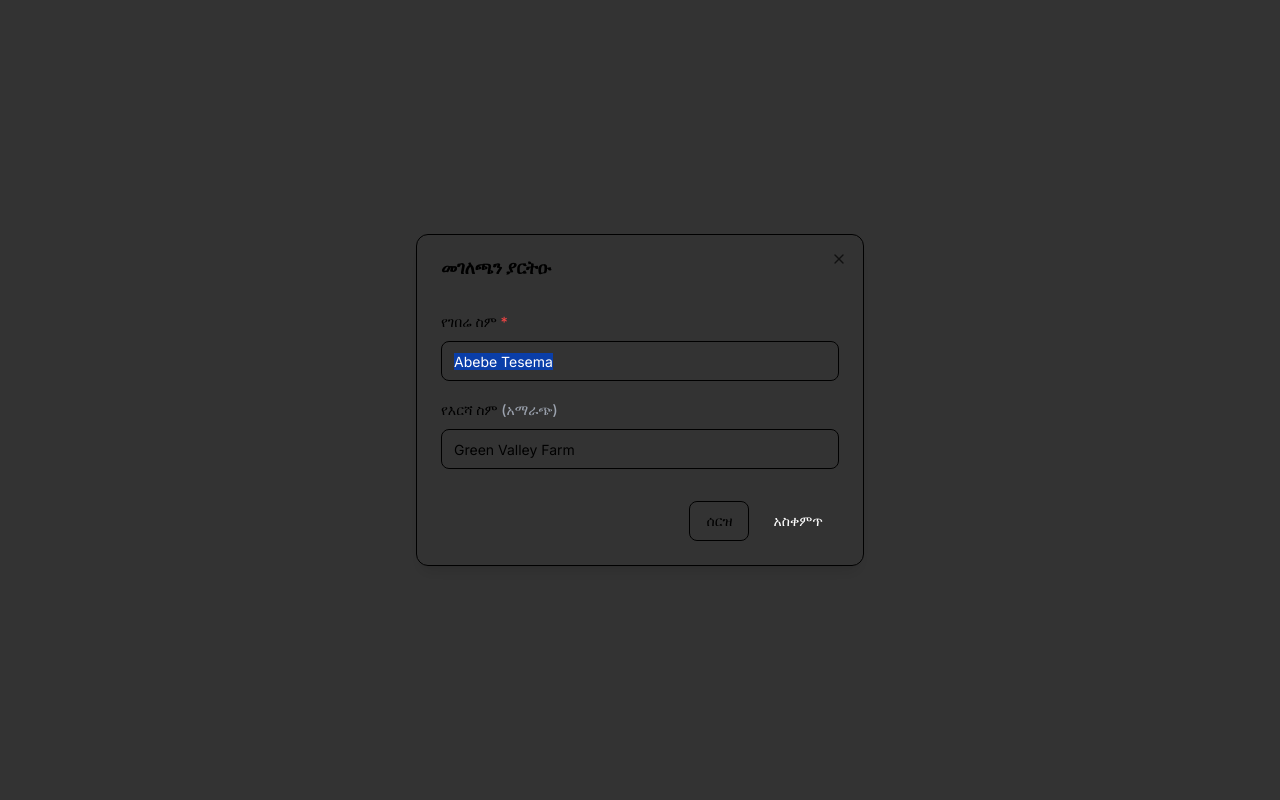
it: EditProfileModal › validates farmer name on save
# Clear farmer name to single word
Replace the text in the field with placeholder "ስም እና የአባት ስም" with "Abebe": [640, 361] box [441, 341, 839, 381]
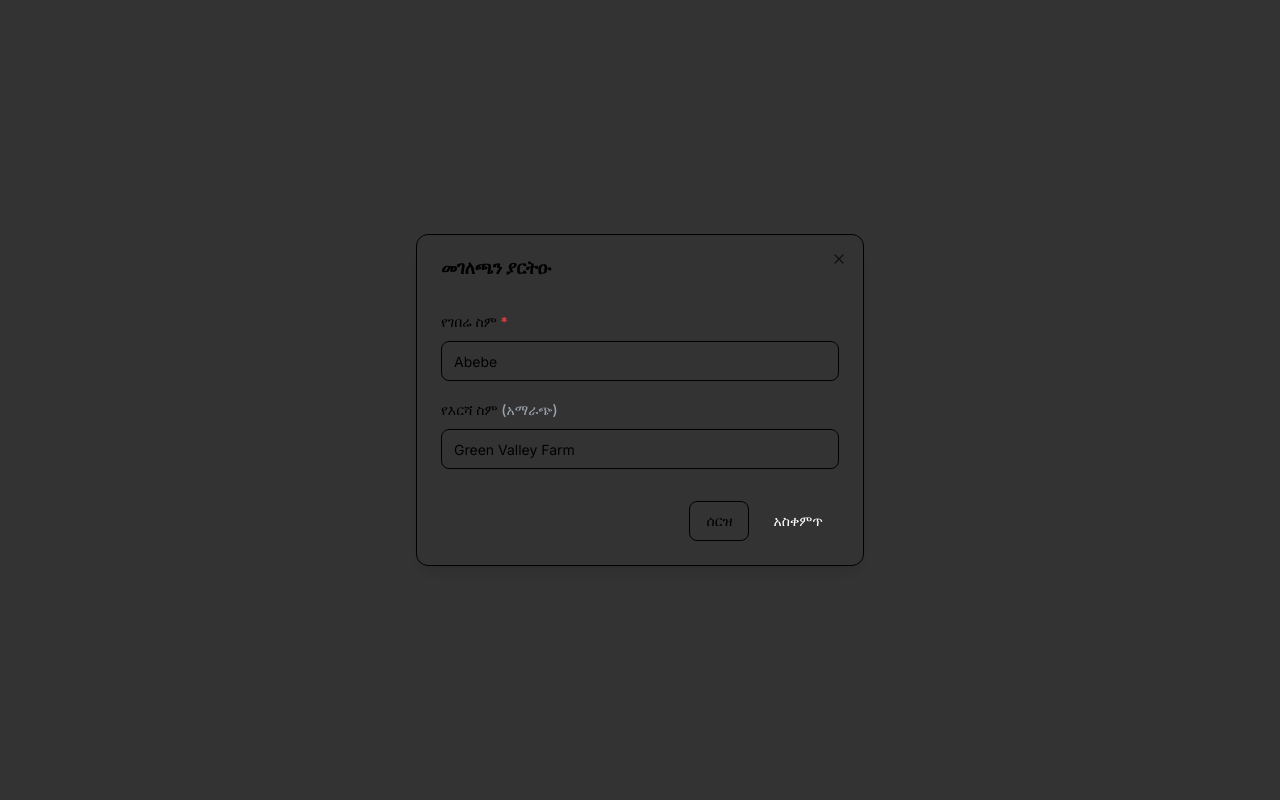
Click the button "አስቀምጥ": [798, 521] box [758, 501, 839, 541]
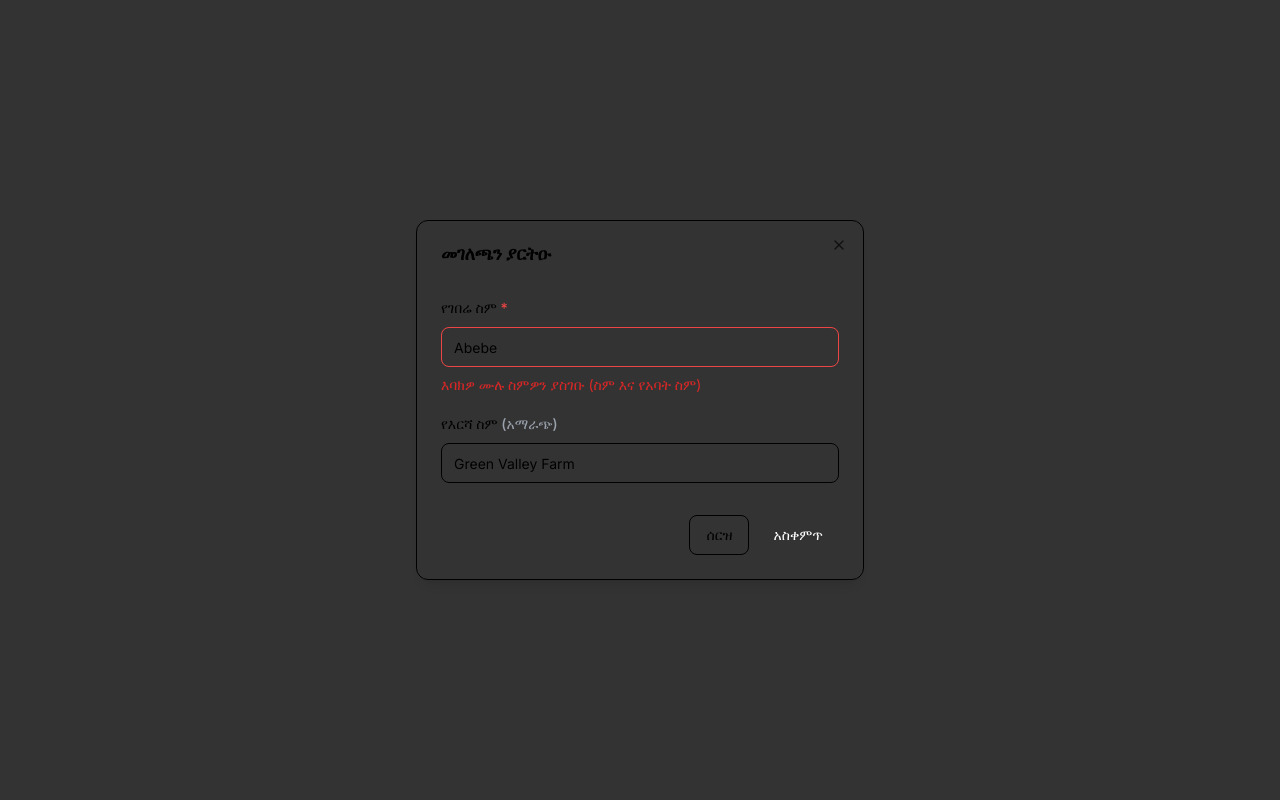
Expected: the text "እባክዎ ሙሉ ስምዎን ያስገቡ (ስም እና የአባት ስም)" is shown, [441, 376, 701, 393]
